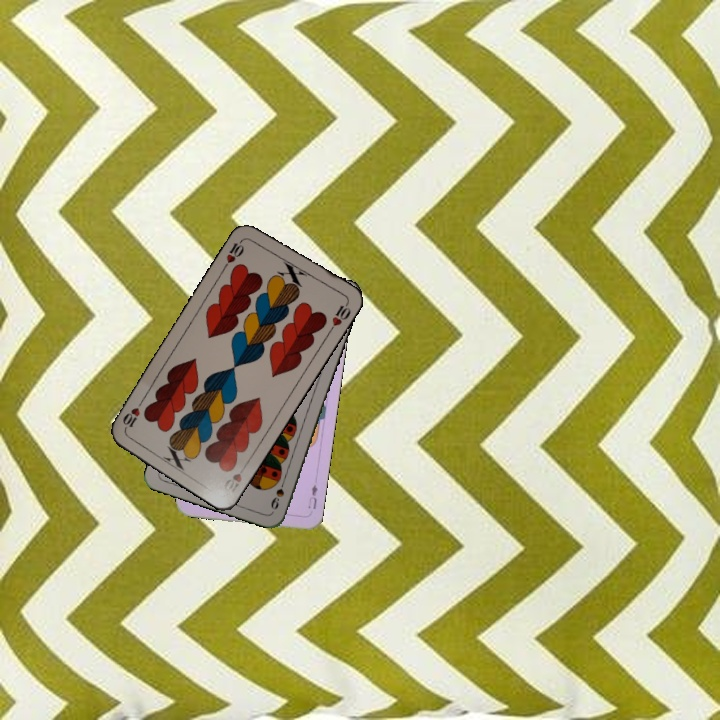EU: (304, 481, 320, 512)
H10: (220, 460, 249, 498), (219, 234, 247, 271)
S9: (267, 474, 288, 512)
